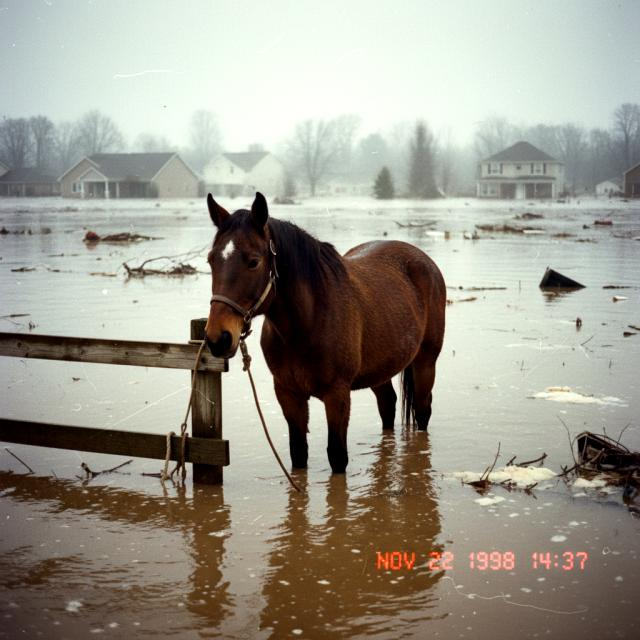horse: (186, 178, 459, 494)
